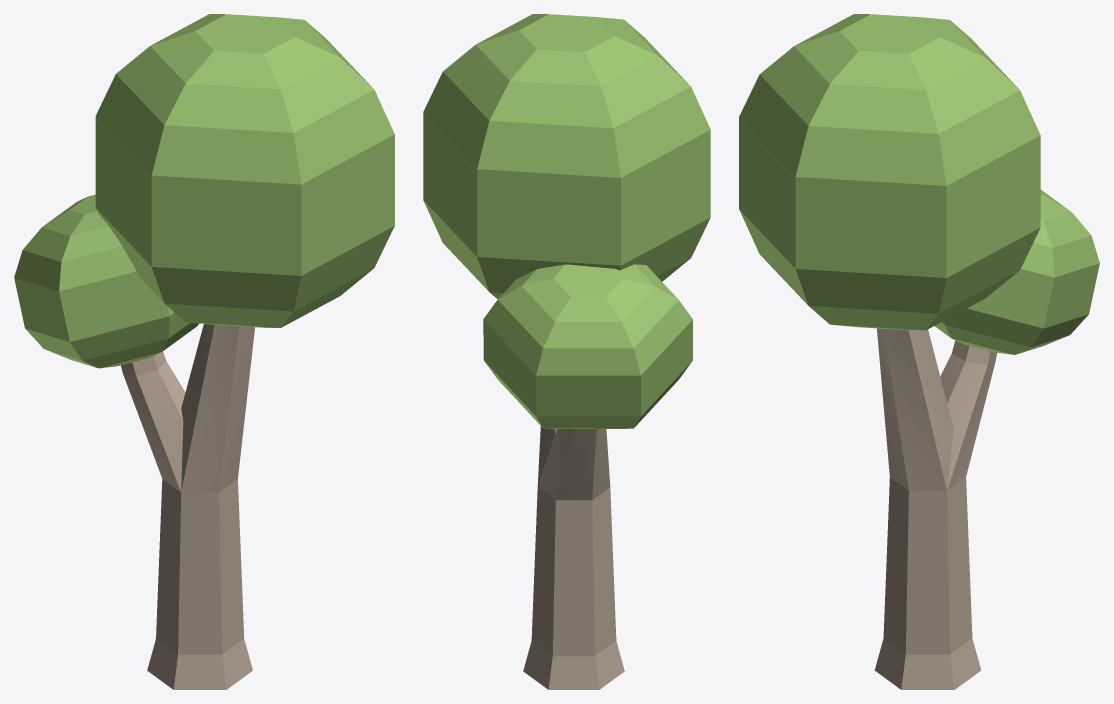
Rendered from Hilly_Prop_Tree_Oak_3.glb.
3 renders of one model, left to right at view 1: azimuth 30°, elevation 25°; view 2: azimuth 150°, elevation 25°; view 3: azimuth 270°, elevation 25°, orthographic. The views are drawn at different scales.
Parts seen in each view (by area): view 1: Hilly_Prop_Tree_Oak_3; view 2: Hilly_Prop_Tree_Oak_3; view 3: Hilly_Prop_Tree_Oak_3.
Part boxes in pixels (x1=…): Hilly_Prop_Tree_Oak_3: x1=14, y1=14, x2=394, y2=689; Hilly_Prop_Tree_Oak_3: x1=423, y1=14, x2=710, y2=689; Hilly_Prop_Tree_Oak_3: x1=739, y1=14, x2=1099, y2=689.
Size of the model in its own units: 2.14 by 4.7 by 2.37.
